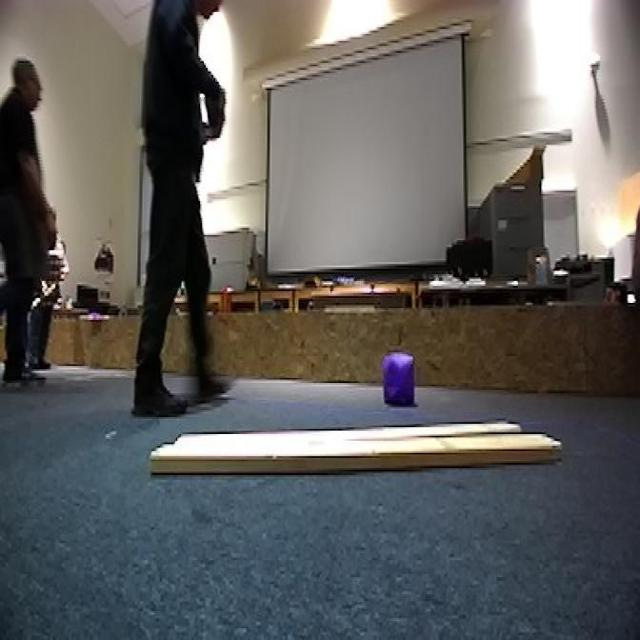frc_cube: (380, 354, 419, 405)
